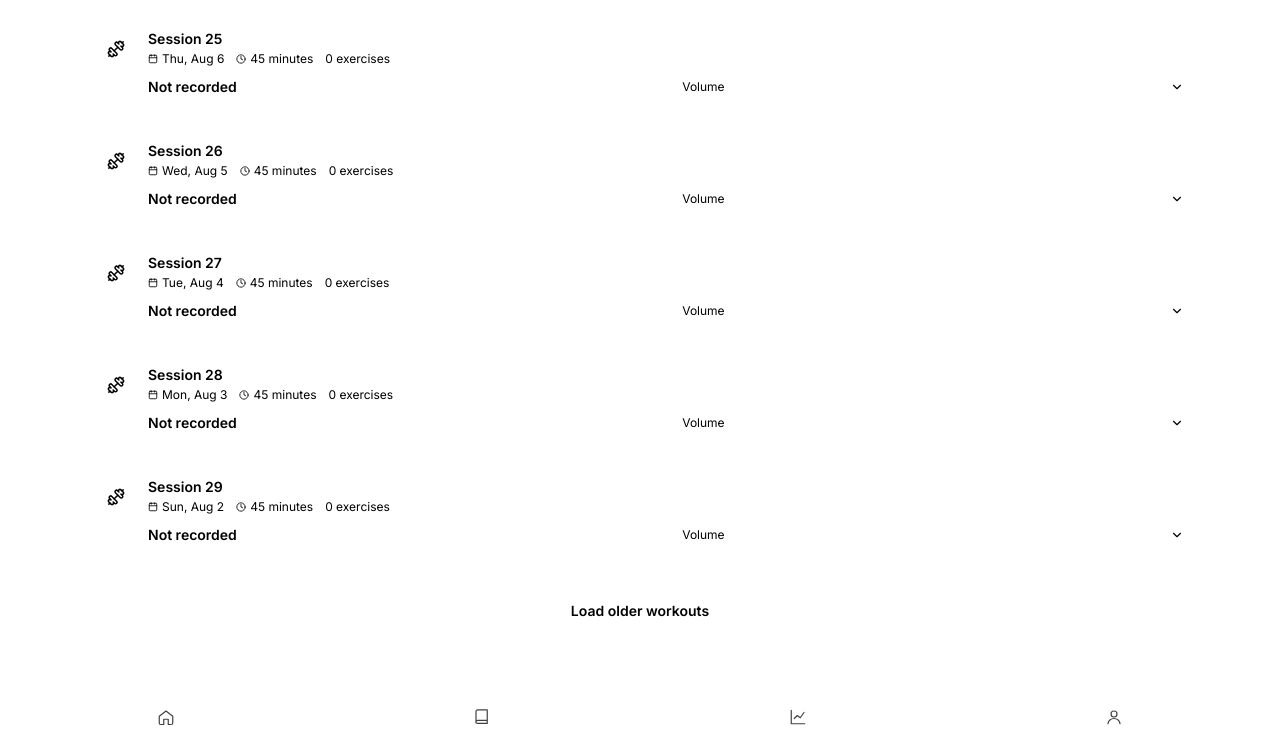
Test: Workout history recovery and honest set evidence › bounds the initial history request and loads older sessions only on demand
The width and height of the screenshot is (1280, 745).
(page scrolled)
Step 1. Click the button "Load older workouts" → (640, 611), box [551,589,729,633]
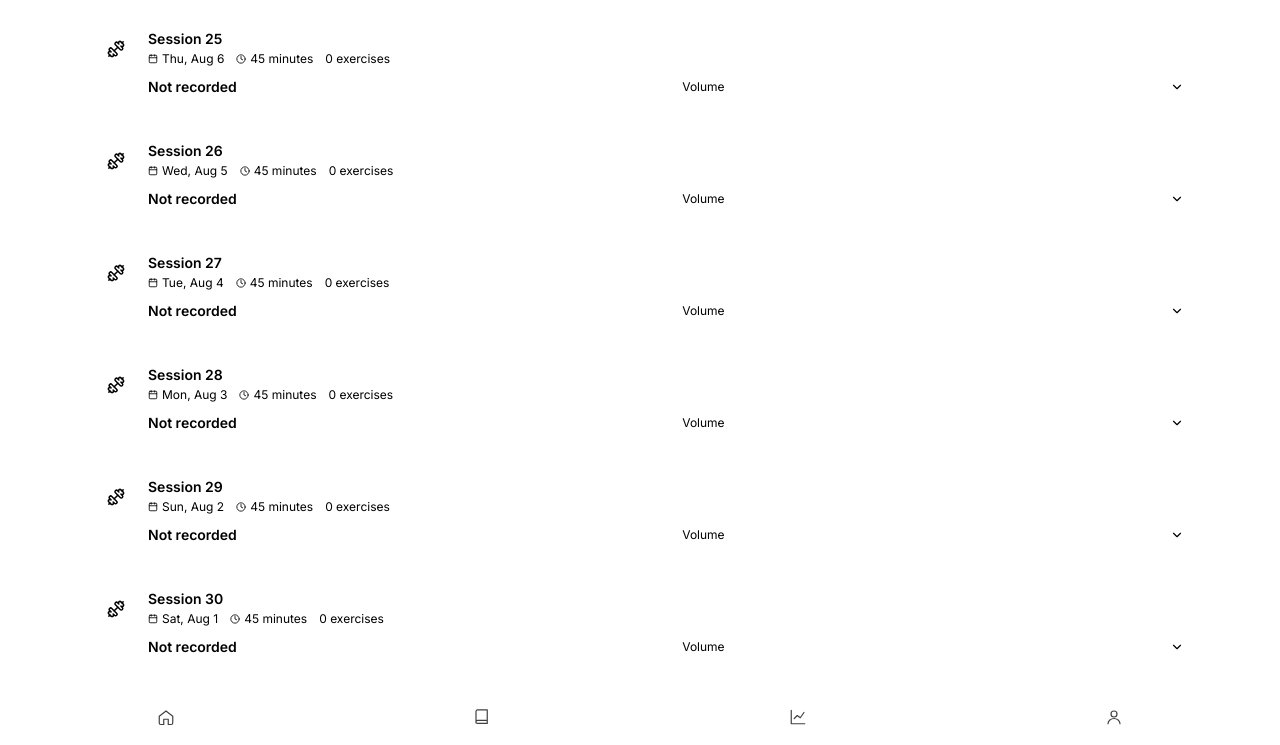
Now the button "Load older workouts" is gone
